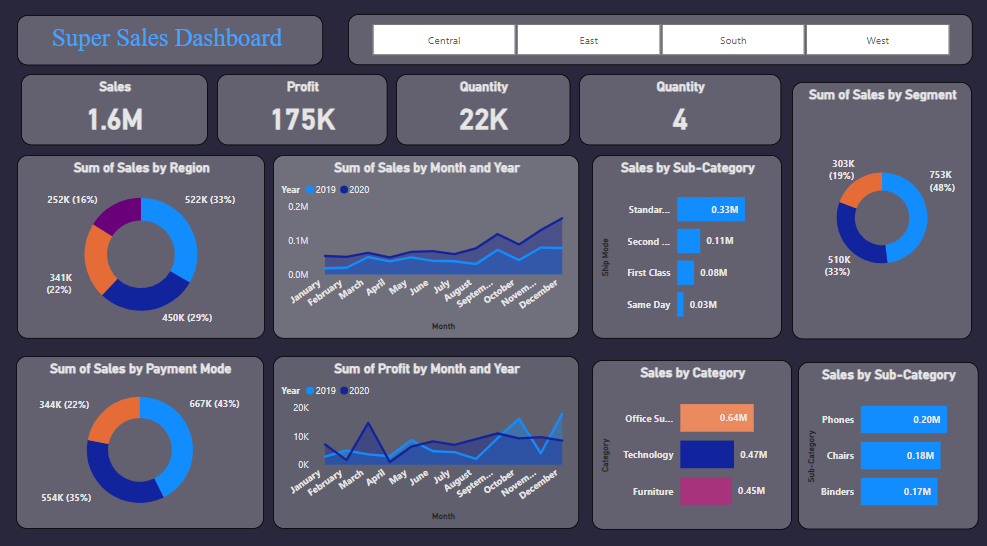

Layout of this report page (visuals, bound fields, positions):
{"tool":"powerbi","page":{"name":"Page 1","canvas":[1280,720],"ordinal":0},"visuals":[{"type":"clusteredBarChart","title":"Sales by Category","fields":{"Category":["SuperStore_Sales_Dataset.Category"],"Y":["Sum(SuperStore_Sales_Dataset.Sales)"]},"box":[767.4,473.3,258.1,218.6],"z":0},{"type":"clusteredBarChart","title":"Sales by Sub-Category","fields":{"Category":["SuperStore_Sales_Dataset.Sub-Category"],"Y":["Sum(SuperStore_Sales_Dataset.Sales)"]},"box":[1033.7,475.6,232.6,216.3],"z":1000},{"type":"clusteredBarChart","title":"Sales by Sub-Category","fields":{"Category":["SuperStore_Sales_Dataset.Ship Mode"],"Y":["Sum(SuperStore_Sales_Dataset.Sales)"]},"box":[767.4,209.3,245.3,237.2],"z":2000},{"type":"areaChart","fields":{"Category":["SuperStore_Sales_Dataset.Order Date.Variation.Date Hierarchy.Month"],"Y":["Sum(SuperStore_Sales_Dataset.Sales)"],"Series":["SuperStore_Sales_Dataset.Order Date.Variation.Date Hierarchy.Year"]},"box":[355.8,209.3,395.3,237.2],"z":3000},{"type":"areaChart","fields":{"Category":["SuperStore_Sales_Dataset.Order Date.Variation.Date Hierarchy.Month"],"Series":["SuperStore_Sales_Dataset.Order Date.Variation.Date Hierarchy.Year"],"Y":["Sum(SuperStore_Sales_Dataset.Profit)"]},"box":[355.8,468.6,395.3,223.3],"z":4000},{"type":"donutChart","fields":{"Category":["SuperStore_Sales_Dataset.Segment"],"Y":["Sum(SuperStore_Sales_Dataset.Sales)"]},"box":[1026.1,114.8,232.4,331.7],"z":5000},{"type":"donutChart","fields":{"Category":["SuperStore_Sales_Dataset.Payment Mode"],"Y":["Sum(SuperStore_Sales_Dataset.Sales)"]},"box":[24.4,468.6,319.8,223.3],"z":6000},{"type":"donutChart","fields":{"Category":["SuperStore_Sales_Dataset.Region"],"Y":["Sum(SuperStore_Sales_Dataset.Sales)"]},"box":[25.6,209.3,319.8,237.2],"z":7000},{"type":"slicer","fields":{"Values":["SuperStore_Sales_Dataset.Region"]},"box":[452.3,26.7,805.8,66.3],"z":8000},{"type":"textbox","box":[25.6,27.9,395.3,65.1],"z":9000},{"type":"card","title":"Sales","fields":{"Values":["Sum(SuperStore_Sales_Dataset.Sales)"]},"box":[31.2,104.9,240.9,92.1],"z":10000},{"type":"card","title":"Profit","fields":{"Values":["Sum(SuperStore_Sales_Dataset.Profit)"]},"box":[283.5,104.9,219.7,92.1],"z":11000},{"type":"card","title":"Quantity","fields":{"Values":["Sum(SuperStore_Sales_Dataset.Quantity)"]},"box":[514.5,104.9,225.4,92.1],"z":12000},{"type":"card","title":"Quantity","fields":{"Values":["Avg(SuperStore_Sales_Dataset.avgDelivery)"]},"box":[751.2,104.9,260.8,92.1],"z":13000}]}

Visuals, with their boxes in screenshot pixels (x1, y1, x2, y2), scaled from the page's 1280x720 canvas onto the 987x546 screenshot:
"Sales by Category" clusteredBarChart: 592 359 791 525
"Sales by Sub-Category" clusteredBarChart: 797 361 976 525
"Sales by Sub-Category" clusteredBarChart: 592 159 781 339
areaChart - SuperStore_Sales_Dataset.Order Date.Variation.Date Hierarchy.Month x Sum(SuperStore_Sales_Dataset.Sales): 274 159 579 339
areaChart - SuperStore_Sales_Dataset.Order Date.Variation.Date Hierarchy.Month x SuperStore_Sales_Dataset.Order Date.Variation.Date Hierarchy.Year: 274 355 579 525
donutChart - SuperStore_Sales_Dataset.Segment x Sum(SuperStore_Sales_Dataset.Sales): 791 87 970 339
donutChart - SuperStore_Sales_Dataset.Payment Mode x Sum(SuperStore_Sales_Dataset.Sales): 19 355 265 525
donutChart - SuperStore_Sales_Dataset.Region x Sum(SuperStore_Sales_Dataset.Sales): 20 159 266 339
slicer - SuperStore_Sales_Dataset.Region: 349 20 970 71
textbox: 20 21 325 71
"Sales" card: 24 80 210 149
"Profit" card: 219 80 388 149
"Quantity" card: 397 80 571 149
"Quantity" card: 579 80 780 149
